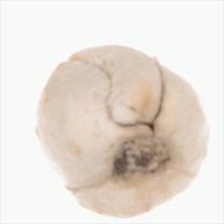L4: (38, 47, 208, 218)
